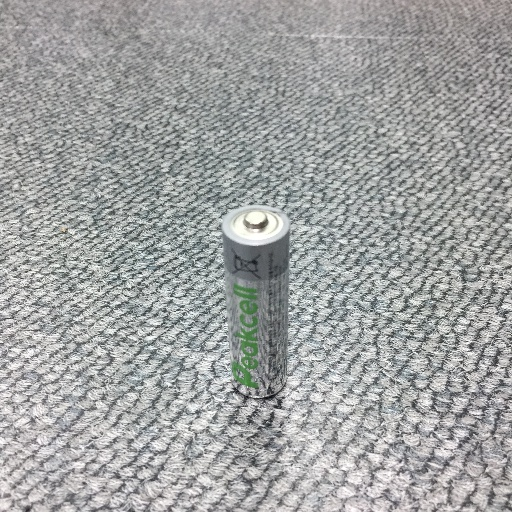Battery_0: (211, 193, 305, 411)
